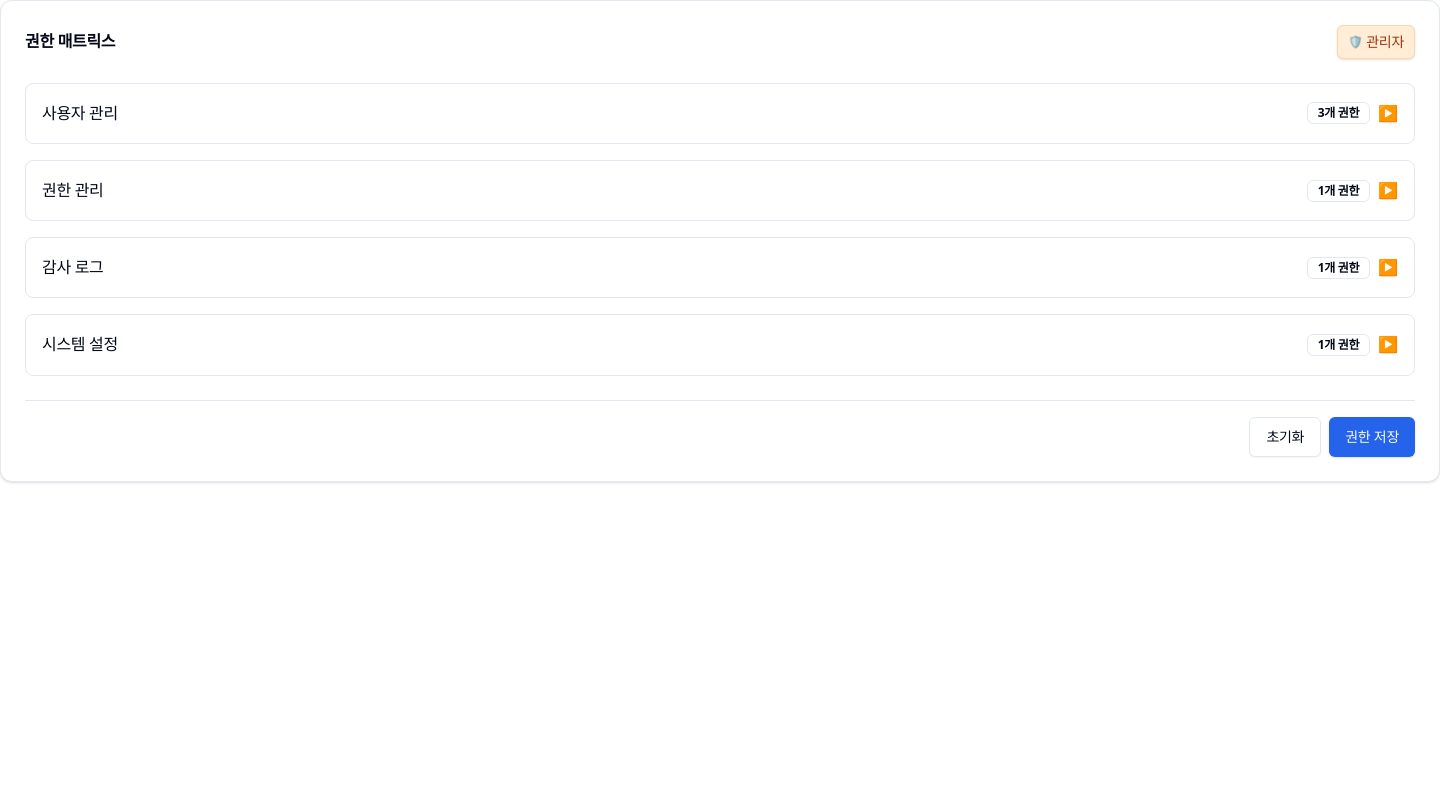
PermissionMatrix Component › Category Expansion › should collapse category when clicked again
The image size is (1440, 810).
Click the button "사용자 관리 3개 권한 ▶" at (80, 113), box left=26, top=84, right=1414, bottom=143
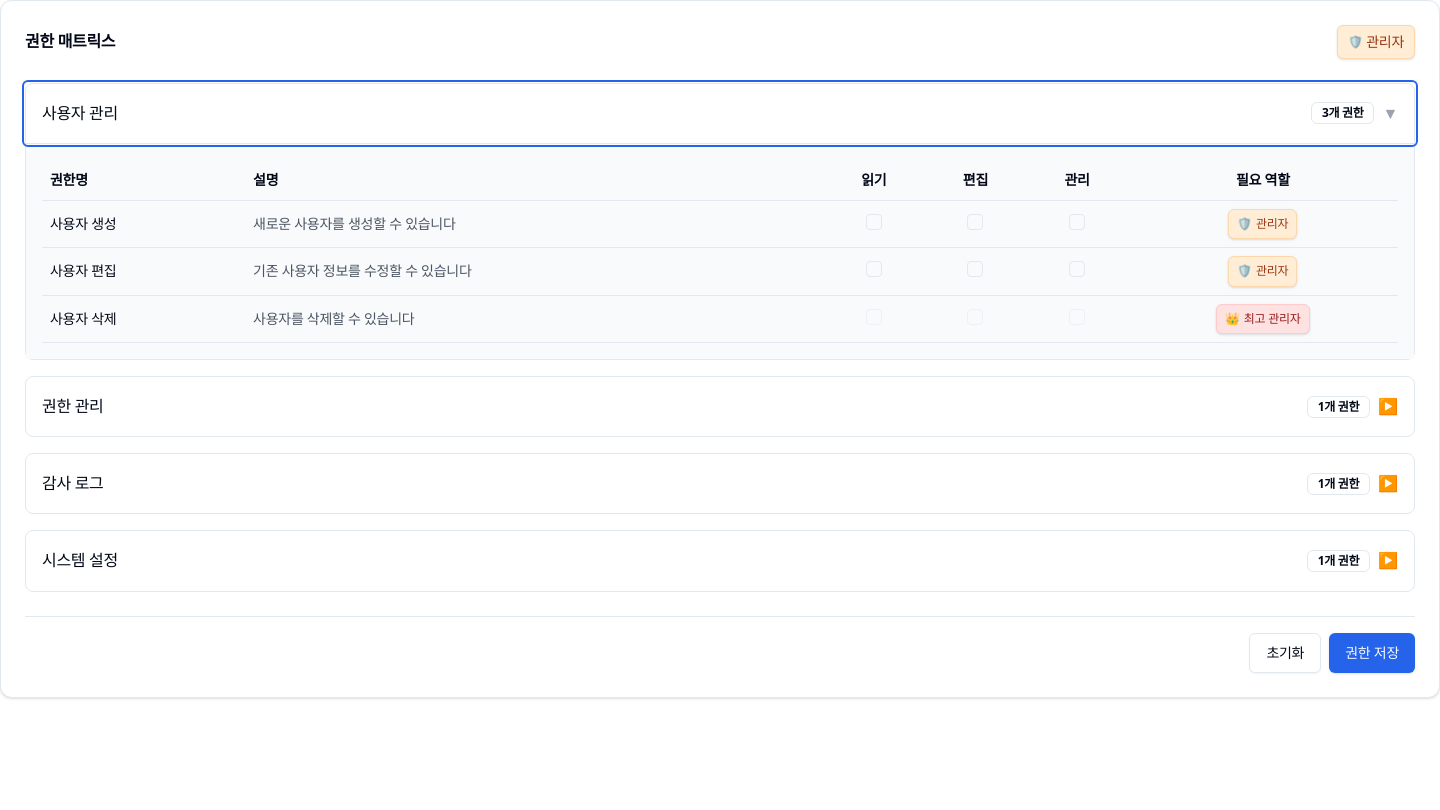
Result: the text "사용자 생성" is shown at left=42, top=200, right=245, bottom=248
Click the button "사용자 관리 3개 권한 ▼" at (80, 113), box left=26, top=84, right=1414, bottom=143
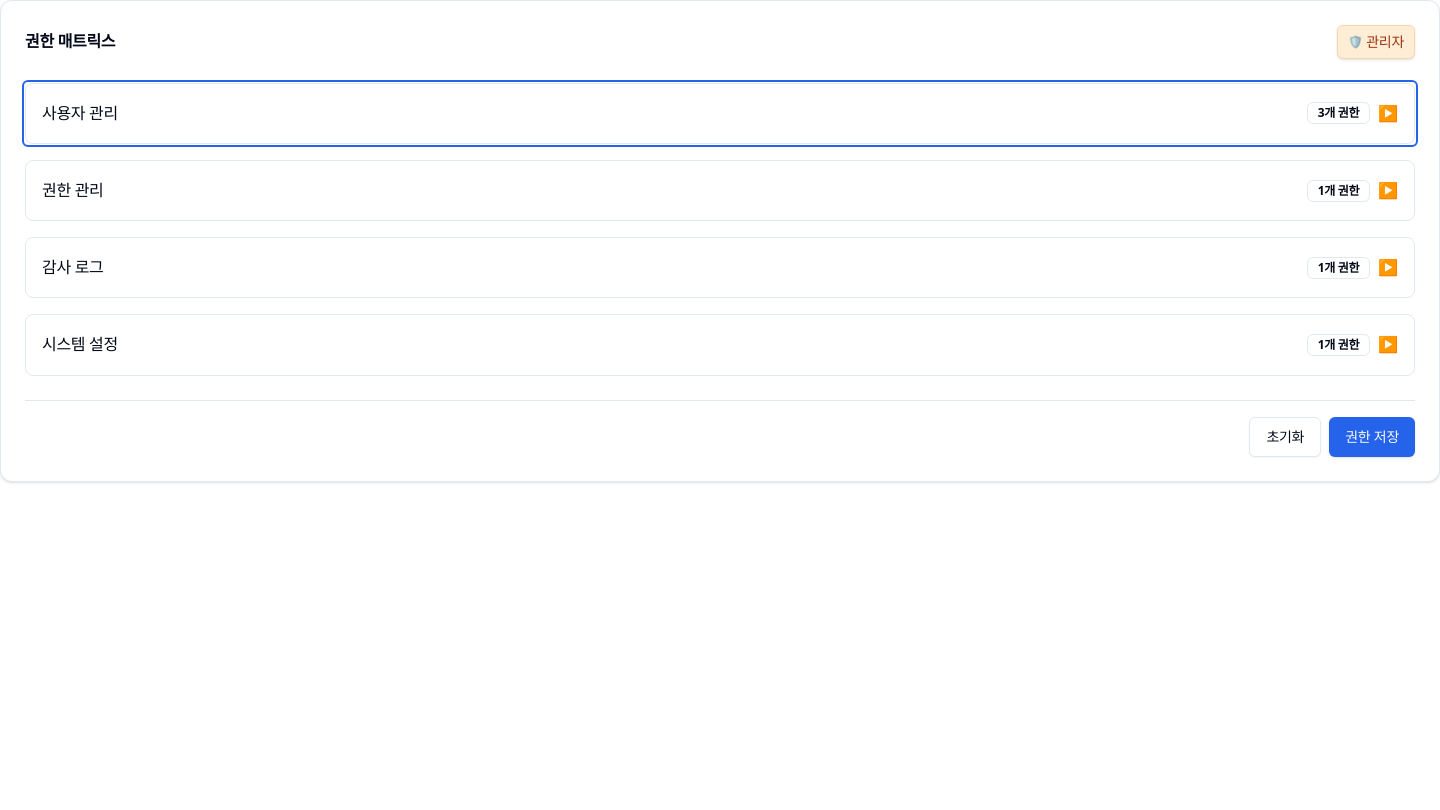
Result: the text "사용자 생성" is gone
